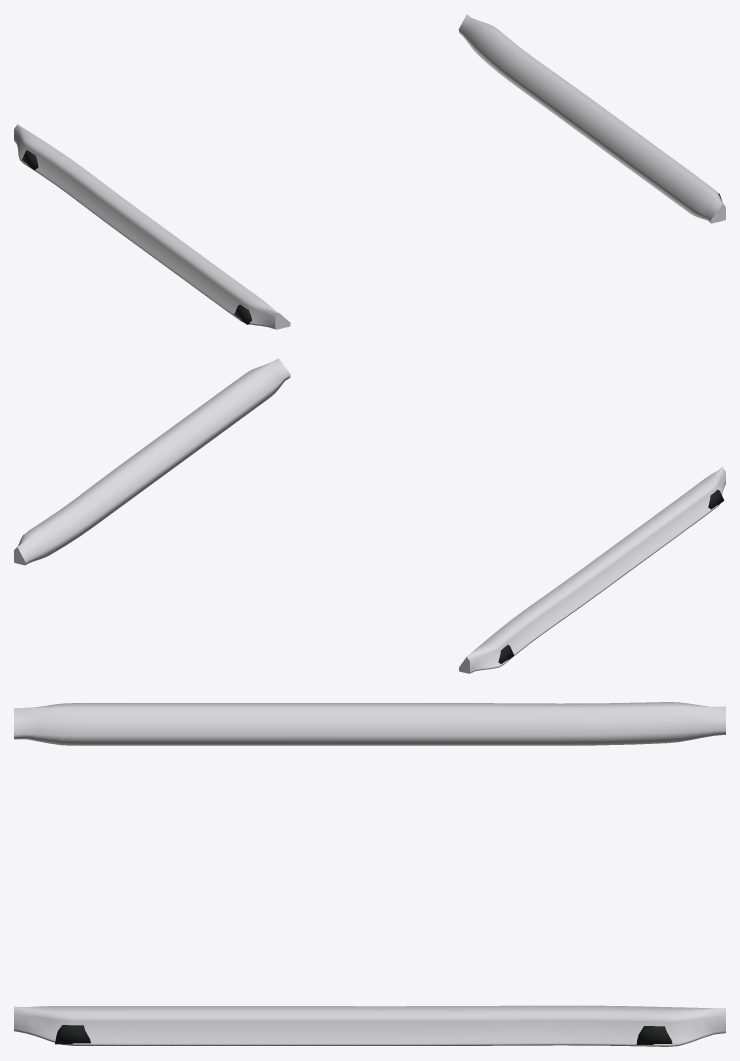
The model's file is WB11_widebody_skirts.glb.
3 renders of one model, top to bottom at view 1: azimuth 30°, elevation 25°; view 2: azimuth 150°, elevation 25°; view 3: azimuth 270°, elevation 25°, orthographic. The views are drawn at different scales.
Parts seen in each view (by area): view 1: MOD_NC_WB11_skirt_L, MOD_NC_WB11_skirt_R; view 2: MOD_NC_WB11_skirt_L, MOD_NC_WB11_skirt_R; view 3: MOD_NC_WB11_skirt_R, MOD_NC_WB11_skirt_L, MOD_NC_WB11_fin_Lf, MOD_NC_WB11_fin_Lr.
Part boxes in pixels (left/top/right/bottom): MOD_NC_WB11_skirt_L: left=458, top=14, right=725, bottom=223; MOD_NC_WB11_skirt_R: left=14, top=124, right=290, bottom=329; MOD_NC_WB11_skirt_L: left=14, top=358, right=290, bottom=565; MOD_NC_WB11_skirt_R: left=459, top=466, right=725, bottom=673; MOD_NC_WB11_skirt_R: left=14, top=702, right=725, bottom=745; MOD_NC_WB11_skirt_L: left=14, top=1005, right=725, bottom=1046; MOD_NC_WB11_fin_Lf: left=55, top=1025, right=90, bottom=1044; MOD_NC_WB11_fin_Lr: left=636, top=1026, right=672, bottom=1044.
Bounding box in the file's own units: 1.67 × 0.07 × 1.56.
2 materials, 1 textured.
